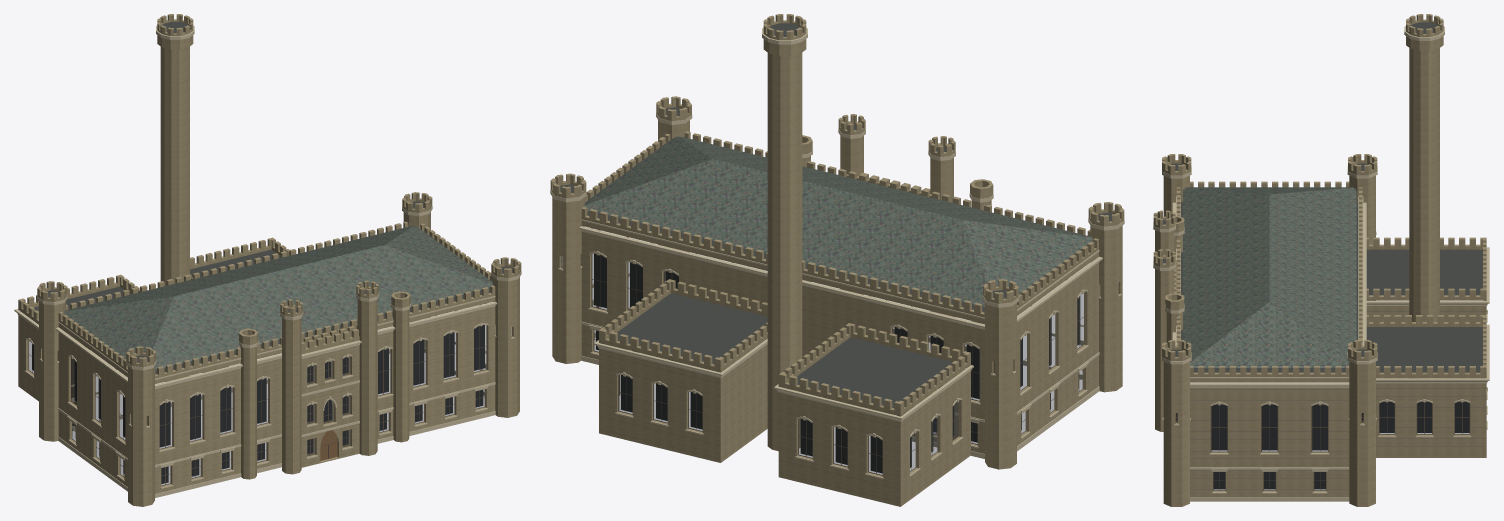
The model's file is chicago_pumping_station_1871__works_1869_1871.glb.
3 views of the same model, side by side, from view 1: azimuth 30°, elevation 25°; view 2: azimuth 150°, elevation 25°; view 3: azimuth 270°, elevation 25° (orthographic). The views are drawn at different scales.
Parts seen in each view (by area): view 1: chicago_pumping_station_1871__works_1869_1871; view 2: chicago_pumping_station_1871__works_1869_1871; view 3: chicago_pumping_station_1871__works_1869_1871.
Part boxes in pixels (left/top/right/bottom): chicago_pumping_station_1871__works_1869_1871: left=14, top=14, right=521, bottom=506; chicago_pumping_station_1871__works_1869_1871: left=550, top=14, right=1124, bottom=506; chicago_pumping_station_1871__works_1869_1871: left=1153, top=14, right=1489, bottom=506.
Bounding box in the file's own units: 46.21 × 40.3 × 33.11.
11 materials, 4 textured.
